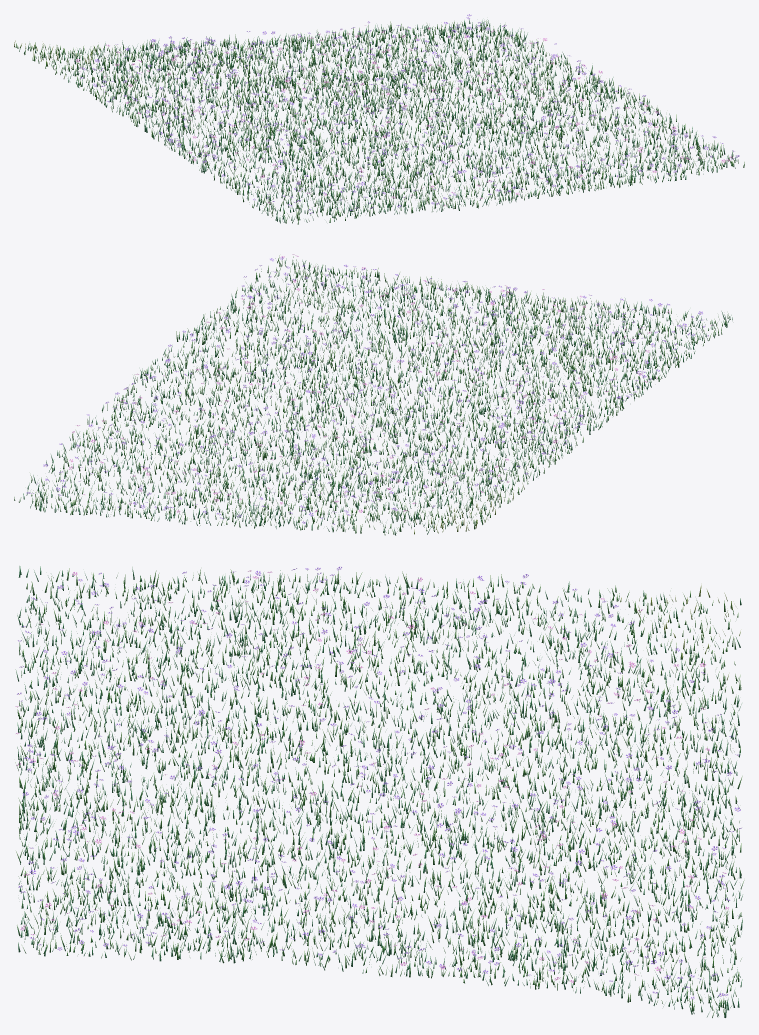
The picture shows the model from 3 angles, top to bottom: view 1: azimuth 30°, elevation 25°; view 2: azimuth 150°, elevation 25°; view 3: azimuth 270°, elevation 25°; orthographic projection. The views are drawn at different scales.
Parts seen in each view (by area): view 1: gc_26; view 2: gc_26; view 3: gc_26.
Part boxes in pixels (x1=…): gc_26: x1=14, y1=14, x2=744, y2=224; gc_26: x1=14, y1=254, x2=732, y2=535; gc_26: x1=15, y1=566, x2=744, y2=1017.
Bounding box in the file's own units: 18.26 × 4.23 × 18.2.
1 material, 1 textured.
